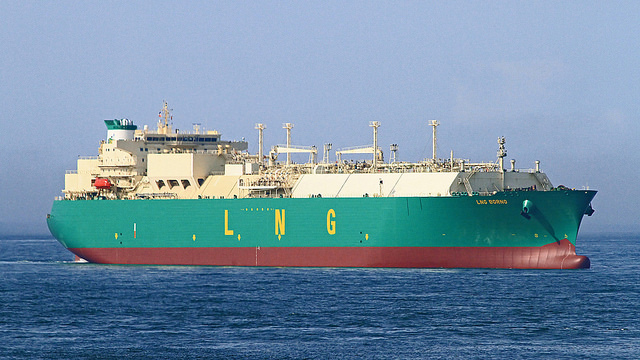LNG_ship: (43, 96, 599, 270)
